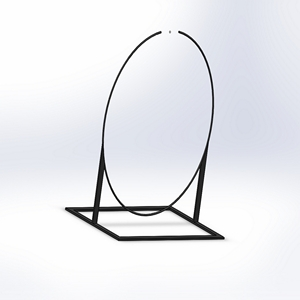circle: (63, 27, 227, 242)
